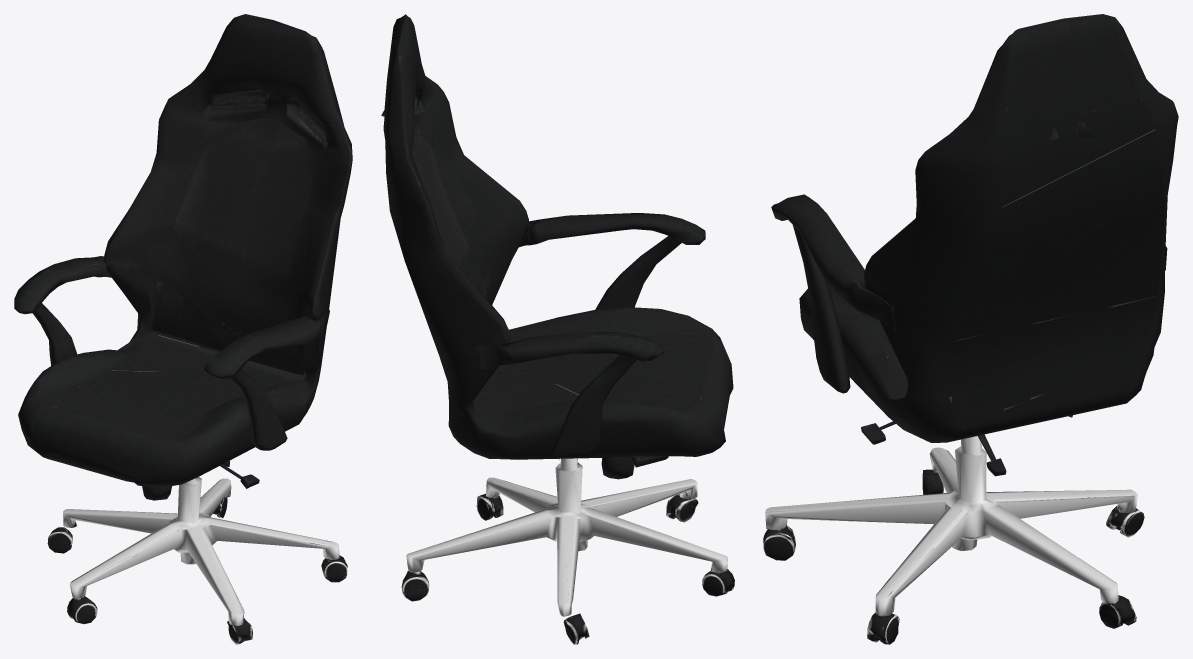
Rendered from Office Chair.fbx.
The picture shows the model from 3 angles, left to right: view 1: azimuth 30°, elevation 25°; view 2: azimuth 150°, elevation 25°; view 3: azimuth 270°, elevation 25°; orthographic projection. The views are drawn at different scales.
Parts seen in each view (by area): view 1: Mesh_0.001; view 2: Mesh_0.001; view 3: Mesh_0.001.
Boxes of the visible parts, x1,y1,x2,y2 form: Mesh_0.001: [14, 14, 352, 644]; Mesh_0.001: [381, 14, 734, 644]; Mesh_0.001: [763, 14, 1178, 644].
Bounding box in the file's own units: 43.9 × 68.65 × 40.97.
1 material, 1 textured.
